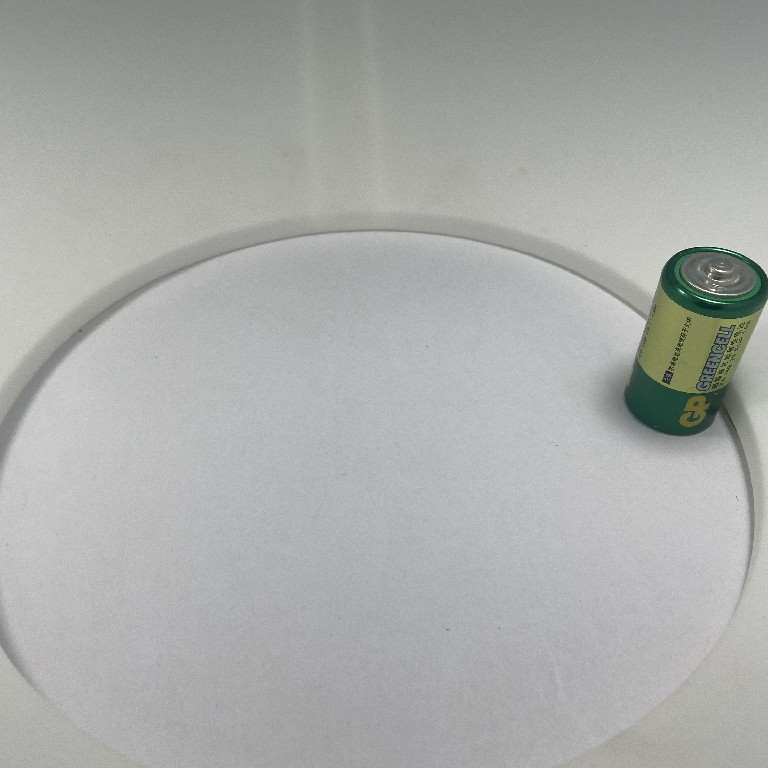charge: (622, 243, 768, 439)
